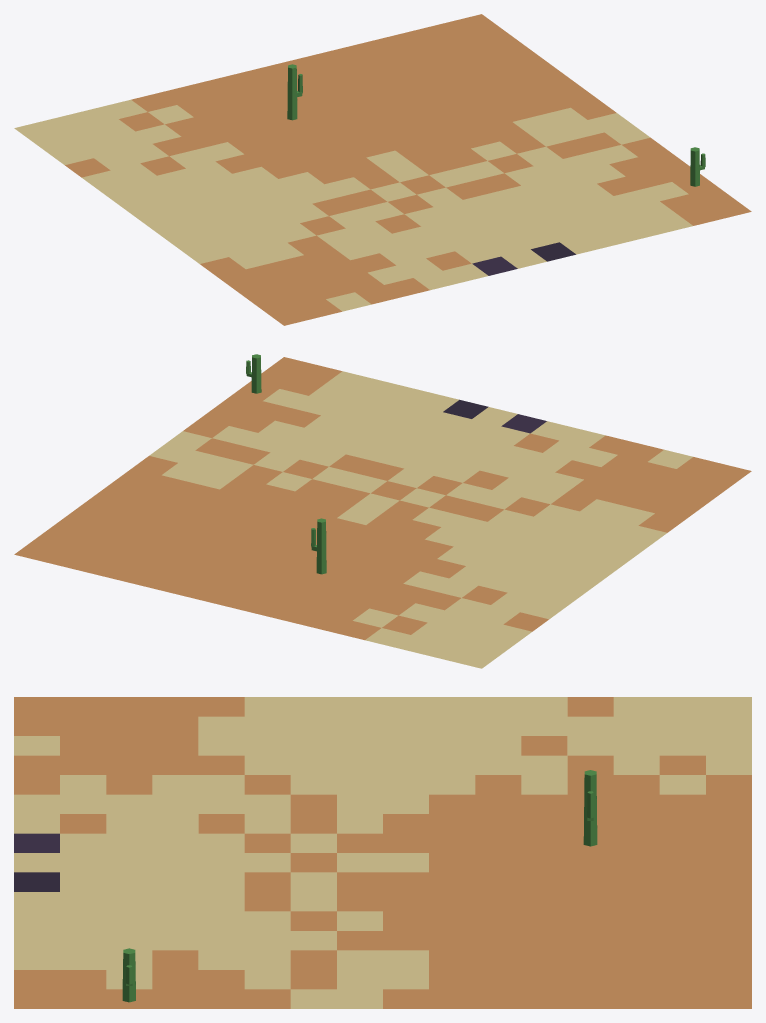
The model's file is chunk_9_22.glb.
3 views of the same model, one above another, from view 1: azimuth 30°, elevation 25°; view 2: azimuth 150°, elevation 25°; view 3: azimuth 270°, elevation 25° (orthographic). The views are drawn at different scales.
Parts seen in each view (by area): view 1: chunk_9_22; view 2: chunk_9_22; view 3: chunk_9_22.
Boxes of the visible parts, <box> form: chunk_9_22: <box>14,14,751,325</box>; chunk_9_22: <box>14,354,751,668</box>; chunk_9_22: <box>14,697,751,1008</box>.
Bounding box in the file's own units: 16 × 1.68 × 16.
